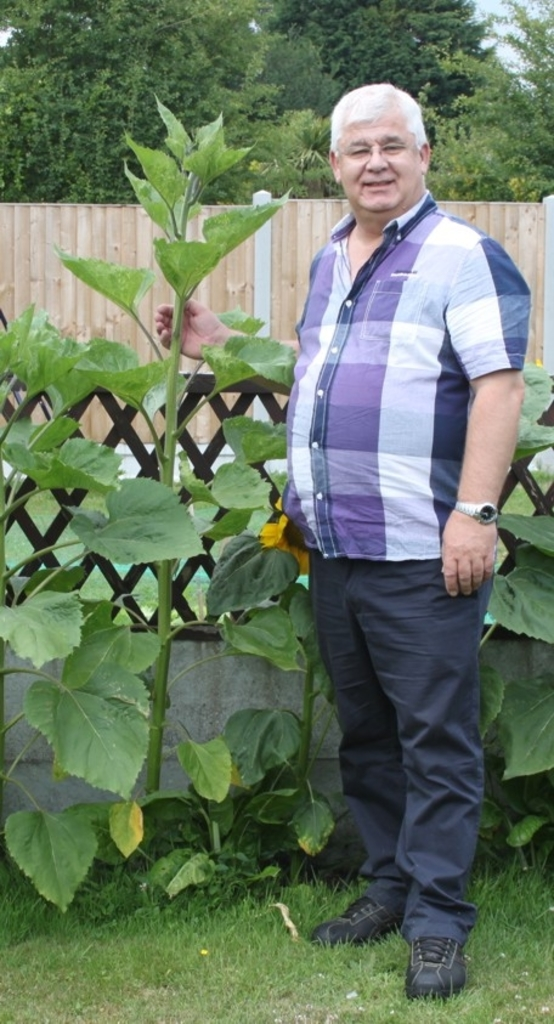Tree: (0, 0, 554, 201)
